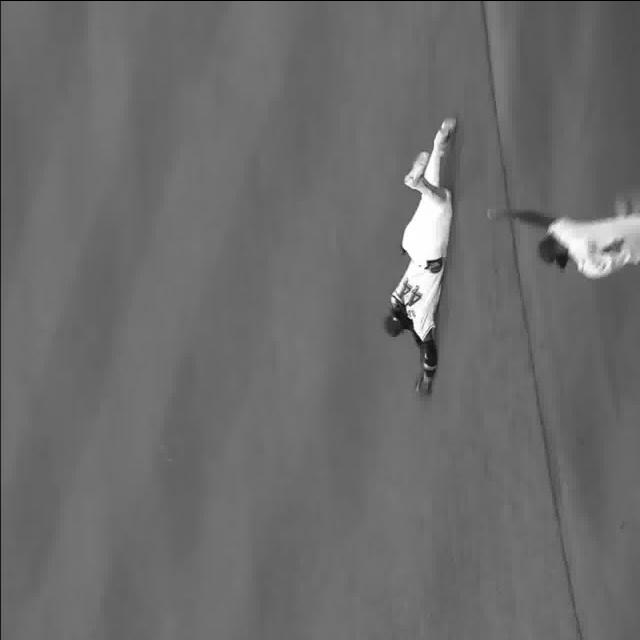shoe: (434, 111, 464, 147), (404, 150, 430, 188)
